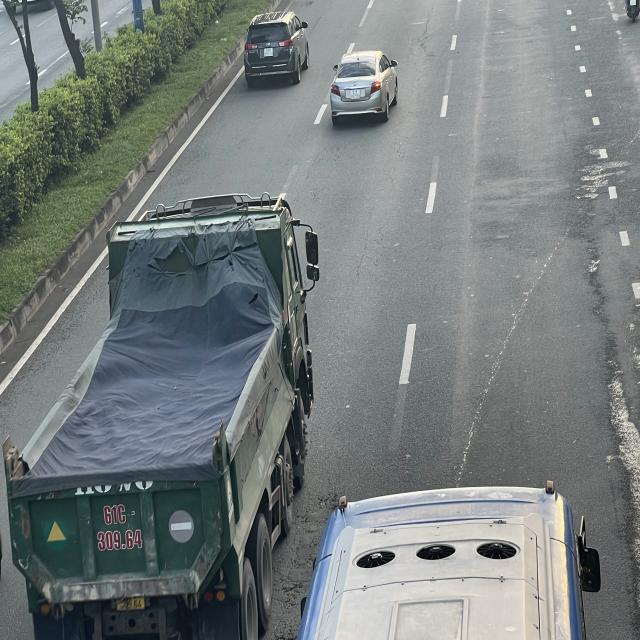car: (330, 52, 400, 124), (244, 13, 310, 87)
coach: (285, 482, 602, 640)
container: (0, 196, 315, 639)
